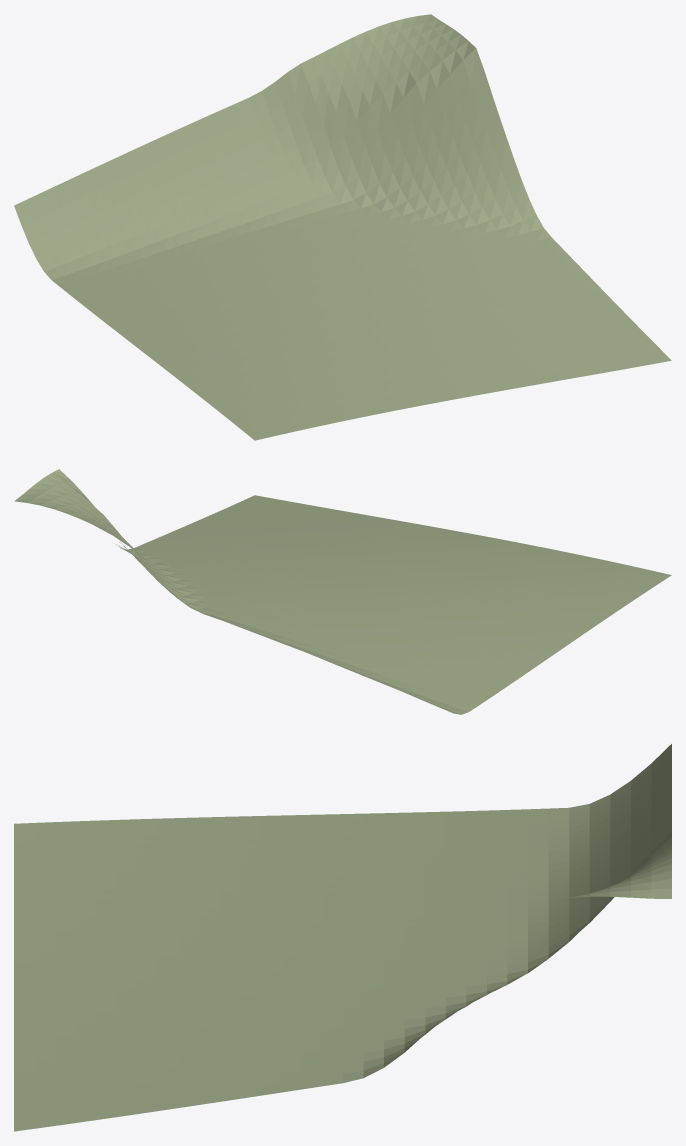
The model's file is alpine-8-12.glb.
3 renders of one model, top to bottom at view 1: azimuth 30°, elevation 25°; view 2: azimuth 150°, elevation 25°; view 3: azimuth 270°, elevation 25°, orthographic. The views are drawn at different scales.
Visible parts, largest first — view 1: alpine-8-12; view 2: alpine-8-12; view 3: alpine-8-12.
Part boxes in pixels (x1=…): alpine-8-12: x1=14, y1=14, x2=671, y2=440; alpine-8-12: x1=14, y1=469, x2=671, y2=714; alpine-8-12: x1=14, y1=744, x2=671, y2=1131.
Bounding box in the file's own units: 256 × 101 × 256.
